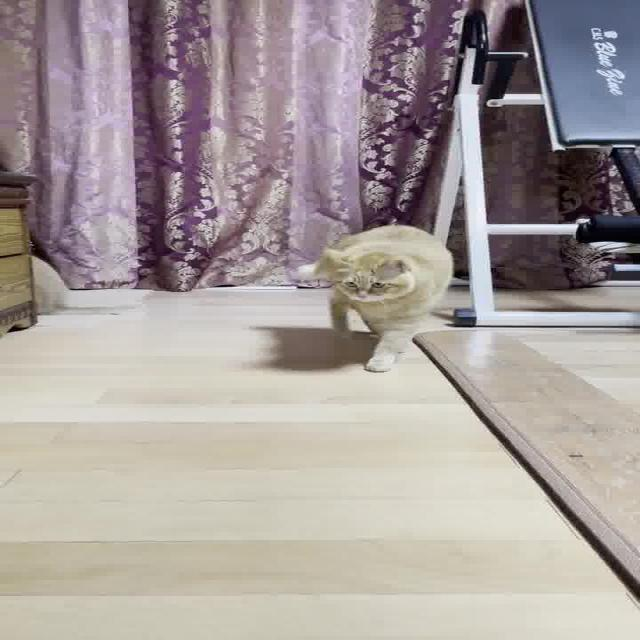cat: (281, 206, 472, 380)
